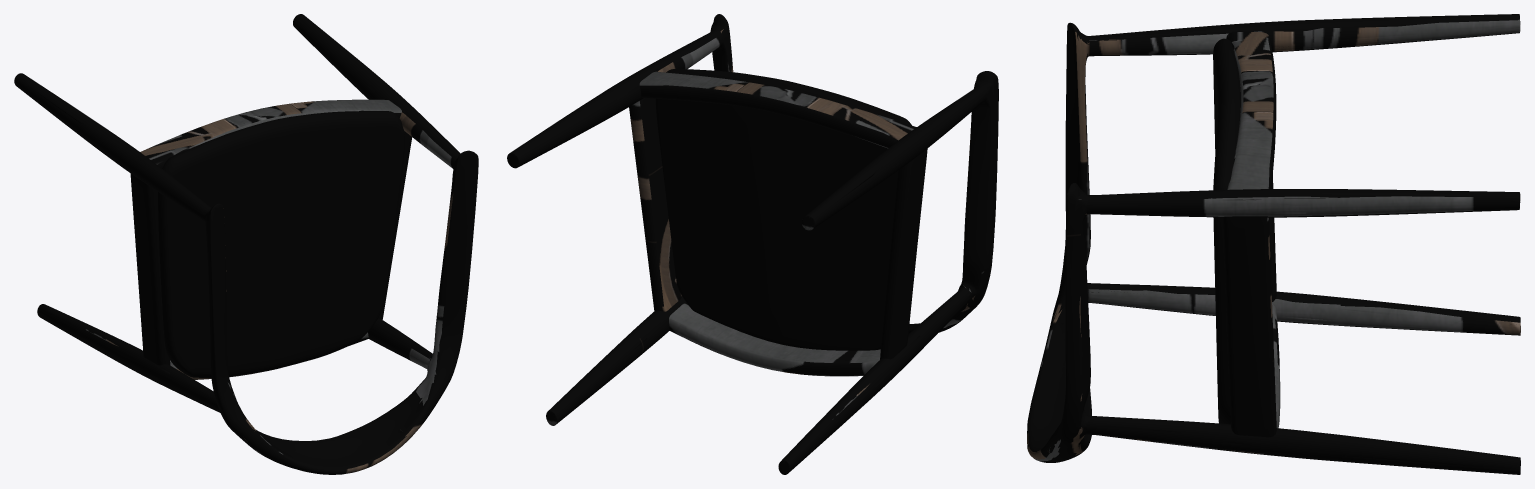
3 renders of one model, left to right at view 1: azimuth 30°, elevation 25°; view 2: azimuth 150°, elevation 25°; view 3: azimuth 270°, elevation 25°, orthographic. The views are drawn at different scales.
Size of the model in its own units: 0.6135 by 0.5898 by 0.7363.
